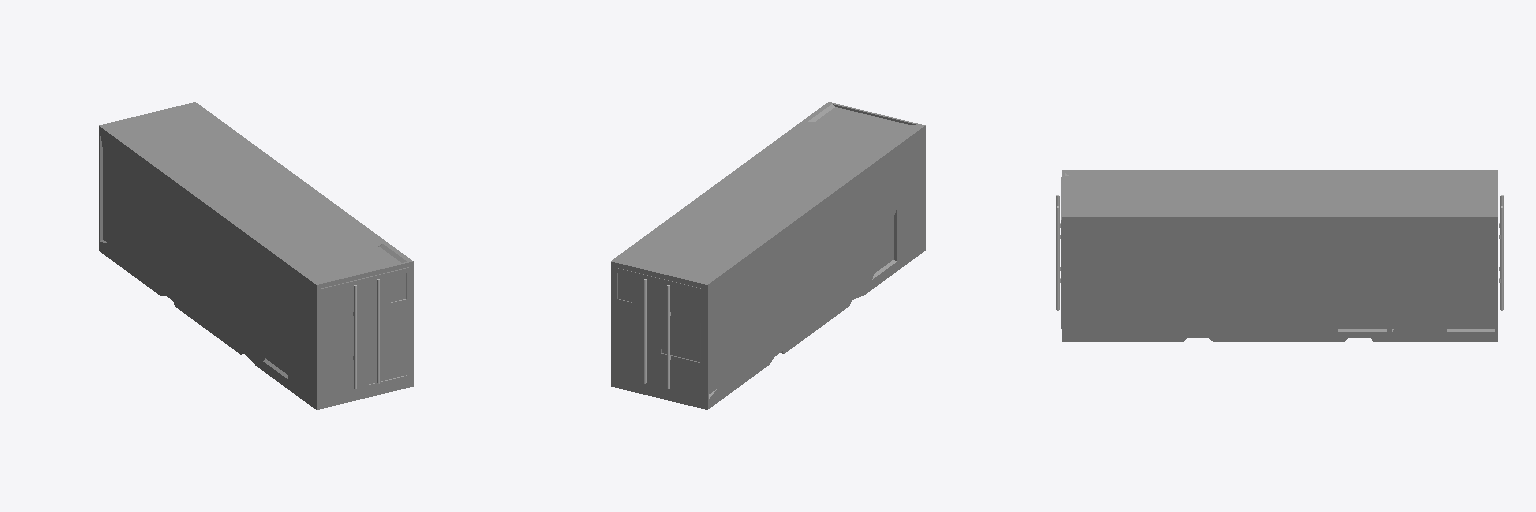
File: container.obj
3 renders of one model, left to right at view 1: azimuth 30°, elevation 25°; view 2: azimuth 150°, elevation 25°; view 3: azimuth 270°, elevation 25°, orthographic.
Parts seen in each view (by area): view 1: Circle_Circle.001; view 2: Circle_Circle.001; view 3: Circle_Circle.001.
Part boxes in pixels (bbox=[...]): Circle_Circle.001: bbox=[99, 102, 413, 409]; Circle_Circle.001: bbox=[611, 102, 925, 409]; Circle_Circle.001: bbox=[1056, 170, 1503, 341].
Bounding box in the file's own units: 2.92 × 3.6 × 11.66.